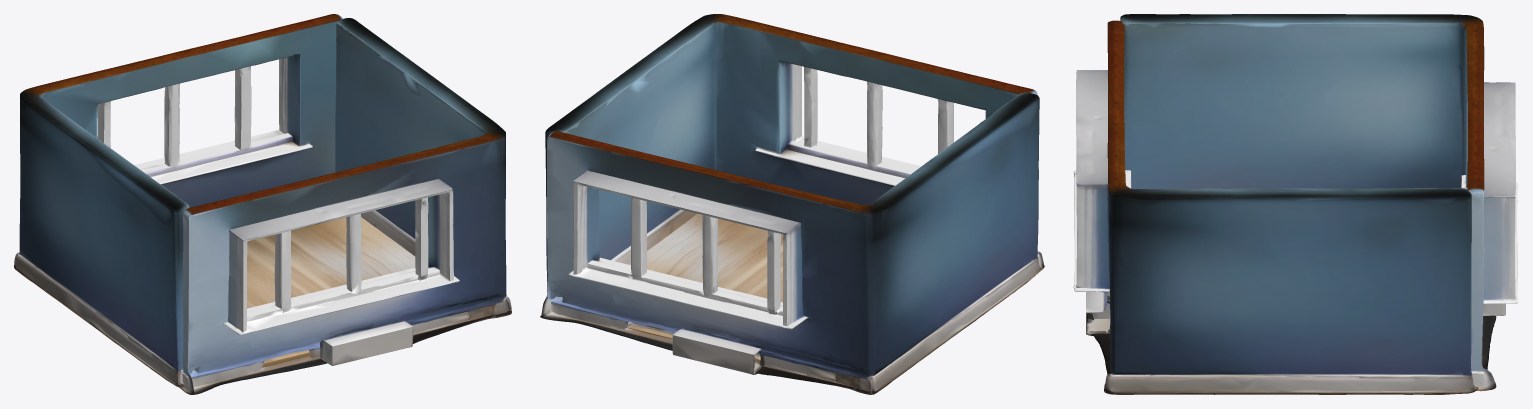
File: base-room-opt-old.glb
3 views of the same model, side by side, from view 1: azimuth 30°, elevation 25°; view 2: azimuth 150°, elevation 25°; view 3: azimuth 270°, elevation 25° (orthographic). The views are drawn at different scales.
Visible parts, largest first — view 1: geometry_0; view 2: geometry_0; view 3: geometry_0.
Boxes of the visible parts, x1,y1,x2,y2 form: geometry_0: [14, 14, 511, 394]; geometry_0: [540, 14, 1044, 394]; geometry_0: [1073, 14, 1518, 394].
Size of the model in its own units: 1.02 by 0.5304 by 1.05.
1 material, 1 textured.
